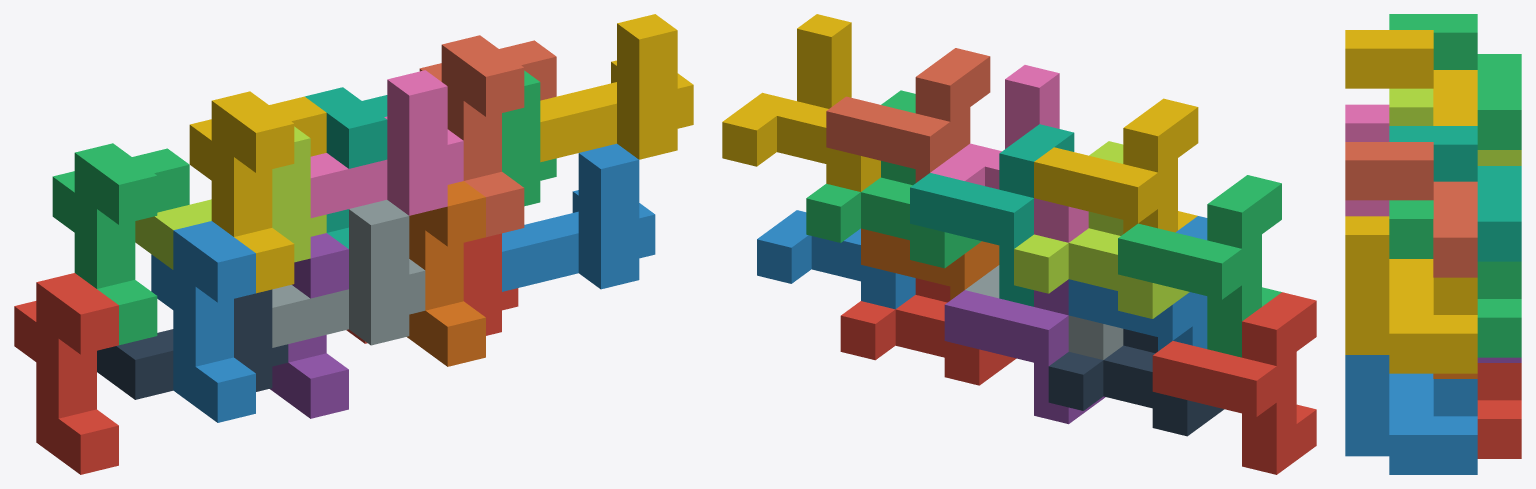
Rendered from tiling.obj.
The picture shows the model from 3 angles, left to right: view 1: azimuth 30°, elevation 25°; view 2: azimuth 150°, elevation 25°; view 3: azimuth 270°, elevation 25°; orthographic projection. The views are drawn at different scales.
Visible parts, largest first — view 1: copy_1_domain_3, copy_1_domain_4, copy_1_domain_1, copy_1_domain_2, copy_2_domain_8, copy_2_domain_6, copy_2_domain_4, copy_2_domain_2, copy_1_domain_8, copy_1_domain_6, copy_2_domain_1, copy_1_domain_5 (+4 smaller); view 2: copy_1_domain_1, copy_1_domain_3, copy_1_domain_4, copy_2_domain_8, copy_1_domain_8, copy_1_domain_7, copy_1_domain_5, copy_2_domain_3, copy_2_domain_7, copy_2_domain_5, copy_2_domain_1, copy_2_domain_4 (+4 smaller); view 3: copy_2_domain_8, copy_2_domain_6, copy_1_domain_8, copy_1_domain_4, copy_1_domain_3, copy_1_domain_7, copy_2_domain_7, copy_2_domain_5, copy_2_domain_4, copy_2_domain_3, copy_1_domain_6, copy_1_domain_5.
Part boxes in pixels (x1=…): copy_1_domain_3: x1=52, y1=143, x2=189, y2=345; copy_1_domain_4: x1=189, y1=91, x2=326, y2=293; copy_1_domain_1: x1=14, y1=273, x2=118, y2=474; copy_1_domain_2: x1=151, y1=221, x2=255, y2=422; copy_2_domain_8: x1=540, y1=14, x2=693, y2=162; copy_2_domain_6: x1=502, y1=143, x2=655, y2=291; copy_2_domain_4: x1=310, y1=70, x2=463, y2=218; copy_2_domain_2: x1=272, y1=200, x2=425, y2=347; copy_1_domain_8: x1=419, y1=35, x2=556, y2=237; copy_1_domain_6: x1=407, y1=181, x2=485, y2=366; copy_2_domain_1: x1=97, y1=289, x2=288, y2=399; copy_1_domain_5: x1=269, y1=233, x2=348, y2=418; copy_1_domain_1: x1=1152, y1=292, x2=1316, y2=474; copy_1_domain_3: x1=1118, y1=175, x2=1281, y2=357; copy_1_domain_4: x1=1034, y1=98, x2=1198, y2=233; copy_2_domain_8: x1=722, y1=14, x2=880, y2=191; copy_1_domain_8: x1=826, y1=48, x2=990, y2=182; copy_1_domain_7: x1=910, y1=124, x2=1074, y2=306; copy_1_domain_5: x1=944, y1=279, x2=1105, y2=424; copy_2_domain_3: x1=1014, y1=141, x2=1189, y2=318; copy_2_domain_7: x1=806, y1=90, x2=981, y2=268; copy_2_domain_5: x1=840, y1=278, x2=1016, y2=385; copy_2_domain_1: x1=1048, y1=329, x2=1224, y2=436; copy_2_domain_4: x1=930, y1=65, x2=1088, y2=242; copy_2_domain_8: x1=1345, y1=216, x2=1477, y2=373; copy_2_domain_6: x1=1345, y1=355, x2=1477, y2=474; copy_1_domain_8: x1=1345, y1=142, x2=1477, y2=277; copy_1_domain_4: x1=1345, y1=30, x2=1477, y2=125; copy_1_domain_3: x1=1389, y1=14, x2=1521, y2=149; copy_1_domain_7: x1=1389, y1=126, x2=1521, y2=261; copy_2_domain_7: x1=1389, y1=200, x2=1521, y2=357; copy_2_domain_5: x1=1477, y1=363, x2=1521, y2=458; copy_2_domain_4: x1=1345, y1=104, x2=1389, y2=216; copy_2_domain_3: x1=1389, y1=88, x2=1521, y2=165; copy_1_domain_6: x1=1433, y1=373, x2=1477, y2=378; copy_1_domain_5: x1=1477, y1=357, x2=1521, y2=362.
Size of the model in its own units: 16 by 8 by 4.
